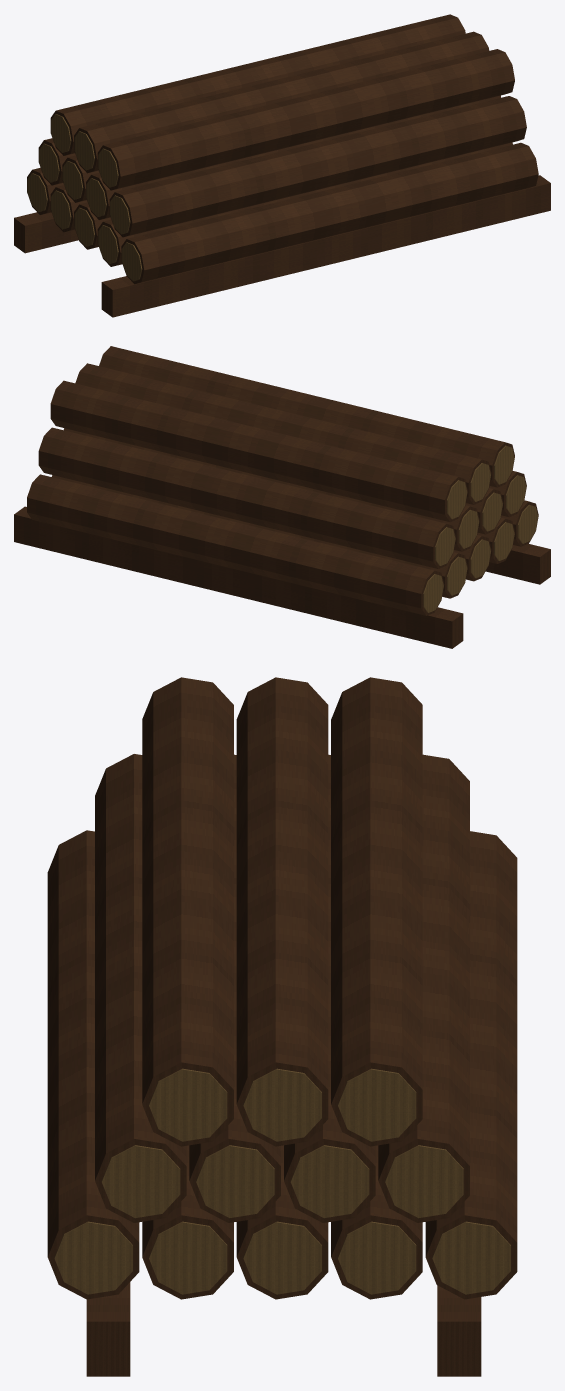
File: level_camp_logpile.glb
3 views of the same model, one above another, from view 1: azimuth 30°, elevation 25°; view 2: azimuth 150°, elevation 25°; view 3: azimuth 270°, elevation 25° (orthographic). The views are drawn at different scales.
Visible parts, largest first — view 1: level_camp_logpile; view 2: level_camp_logpile; view 3: level_camp_logpile.
Part boxes in pixels (x1,y1,x2,y2): level_camp_logpile: [14, 14, 550, 317]; level_camp_logpile: [14, 346, 550, 648]; level_camp_logpile: [47, 677, 517, 1376].
Bounding box in the file's own units: 3 × 0.9579 × 1.39.
Materials: 2 (2 with a texture image).
